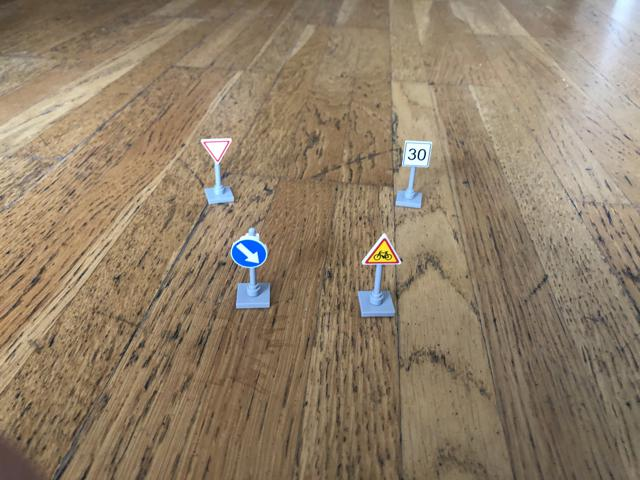radfahrer: (363, 233, 401, 267)
rechts halten: (232, 237, 269, 268)
tempolimit 30: (401, 140, 433, 169)
vorfahrt gewähren: (200, 136, 234, 165)
